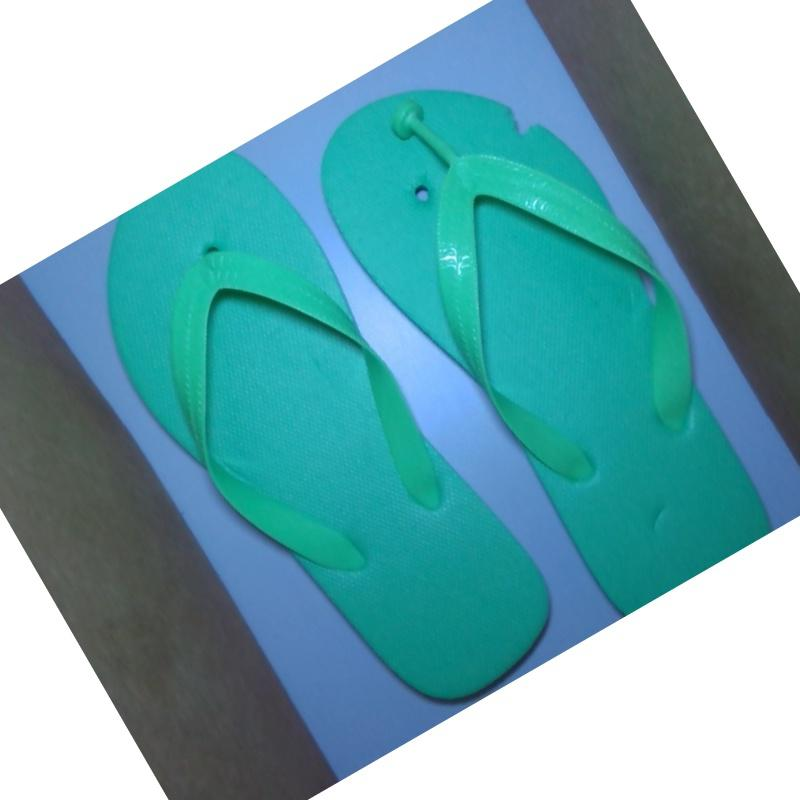chipped: (500, 95, 555, 146)
detached: (386, 98, 440, 155)
